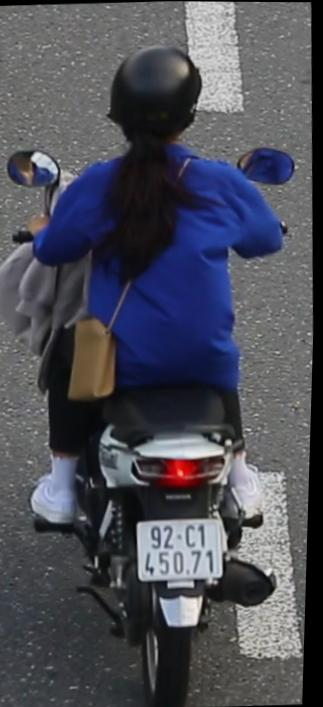LP: (132, 510, 233, 598)
helmet: (102, 36, 205, 150)
